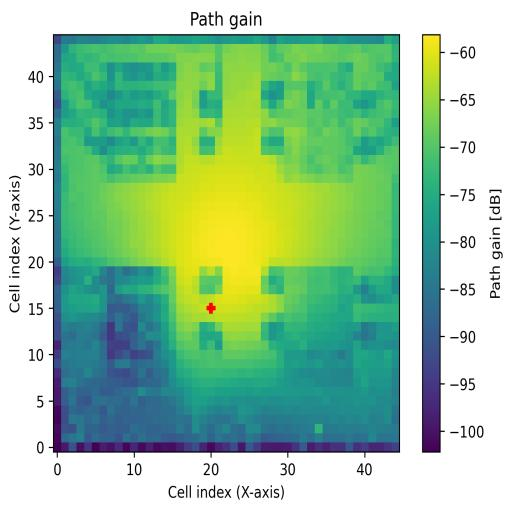Concrete: (284, 62, 354, 185)
Glass: (106, 62, 176, 185)
Metal: (283, 266, 354, 388)
Wood: (106, 267, 177, 389)
